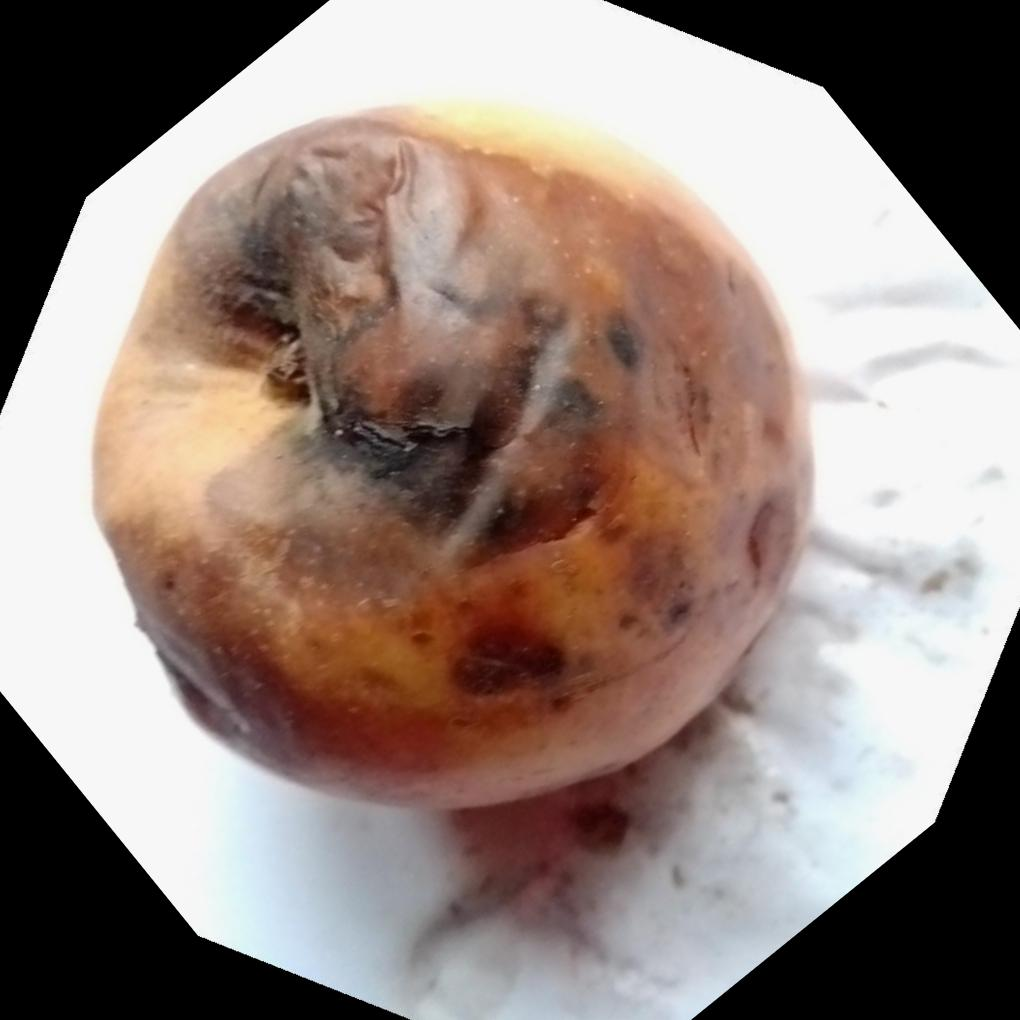FreshOrange: (90, 91, 817, 816)
